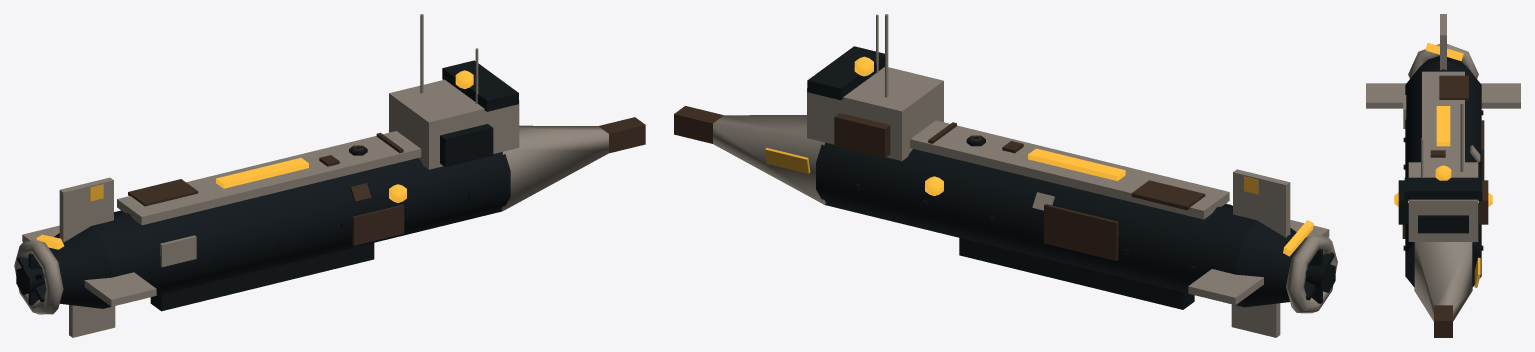
The model's file is light-scout-bathyarch.glb.
3 renders of one model, left to right at view 1: azimuth 30°, elevation 25°; view 2: azimuth 150°, elevation 25°; view 3: azimuth 270°, elevation 25°, orthographic. The views are drawn at different scales.
Visible parts, largest first — view 1: pressure_hull, spine_plate, sensor_head, nose_wedge, keel_skid, hull_cap_aft, fin_dorsal, sensor_brow, prop_shroud, sensor_cheek_s, fin_s, patch_s1 (+6 smaller); view 2: pressure_hull, spine_plate, sensor_head, nose_wedge, keel_skid, hull_cap_aft, patch_p1, fin_dorsal, sensor_brow, prop_shroud, sensor_cheek_p, fin_p (+6 smaller); view 3: pressure_hull, nose_wedge, sensor_head, spine_plate, sensor_brow, fin_p, fin_s, sensor_aperture, patch_top, prop_shroud, nose_tip, nav_strip_spine (+9 smaller).
Boxes of the visible parts, bbox=[...] form: pressure_hull: bbox=[91, 152, 510, 308]; spine_plate: bbox=[117, 131, 421, 225]; sensor_head: bbox=[389, 79, 519, 169]; nose_wedge: bbox=[501, 125, 608, 210]; keel_skid: bbox=[150, 243, 374, 311]; hull_cap_aft: bbox=[49, 226, 111, 308]; fin_dorsal: bbox=[59, 177, 113, 242]; sensor_brow: bbox=[442, 60, 518, 111]; prop_shroud: bbox=[14, 240, 63, 314]; sensor_cheek_s: bbox=[440, 124, 493, 167]; fin_s: bbox=[84, 272, 156, 306]; patch_s1: bbox=[352, 204, 404, 245]; pressure_hull: bbox=[816, 142, 1256, 307]; spine_plate: bbox=[910, 120, 1229, 219]; sensor_head: bbox=[807, 67, 943, 160]; nose_wedge: bbox=[713, 115, 825, 204]; keel_skid: bbox=[959, 238, 1194, 309]; hull_cap_aft: bbox=[1235, 220, 1302, 307]; patch_p1: bbox=[1044, 204, 1118, 260]; fin_dorsal: bbox=[1233, 169, 1290, 237]; sensor_brow: bbox=[807, 46, 884, 100]; prop_shroud: bbox=[1286, 235, 1337, 313]; sensor_cheek_p: bbox=[834, 113, 890, 158]; fin_p: bbox=[1188, 269, 1263, 304]; pressure_hull: bbox=[1405, 61, 1481, 287]; nose_wedge: bbox=[1414, 242, 1472, 321]; sensor_head: bbox=[1408, 162, 1478, 241]; spine_plate: bbox=[1422, 71, 1464, 162]; sensor_brow: bbox=[1404, 177, 1482, 200]; fin_p: bbox=[1480, 83, 1520, 108]; fin_s: bbox=[1366, 83, 1406, 108]; sensor_aperture: bbox=[1418, 215, 1468, 233]; patch_top: bbox=[1439, 75, 1468, 100]; prop_shroud: bbox=[1408, 44, 1478, 78]; nose_tip: bbox=[1434, 305, 1452, 337]; nav_strip_spine: bbox=[1436, 106, 1450, 146].
Bounding box in the file's own units: 60 × 20.95 × 15.
